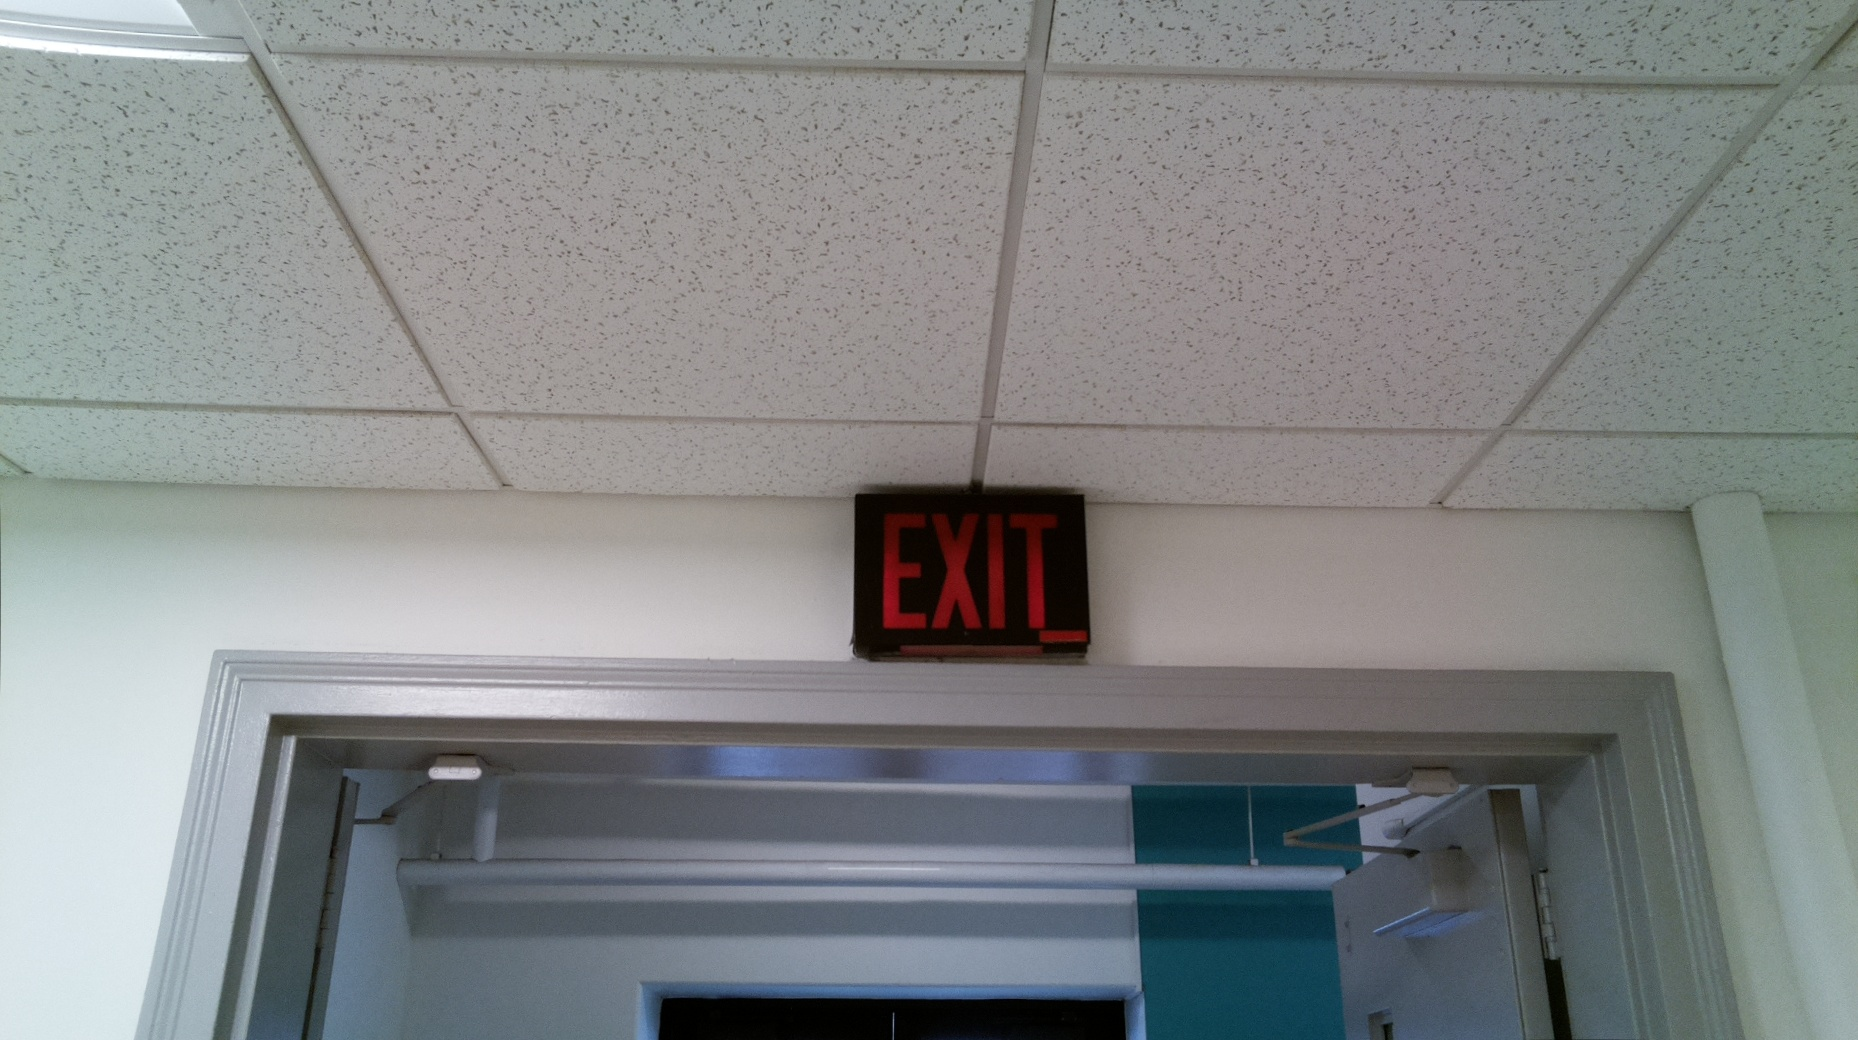exit sign: (846, 479, 1100, 672)
